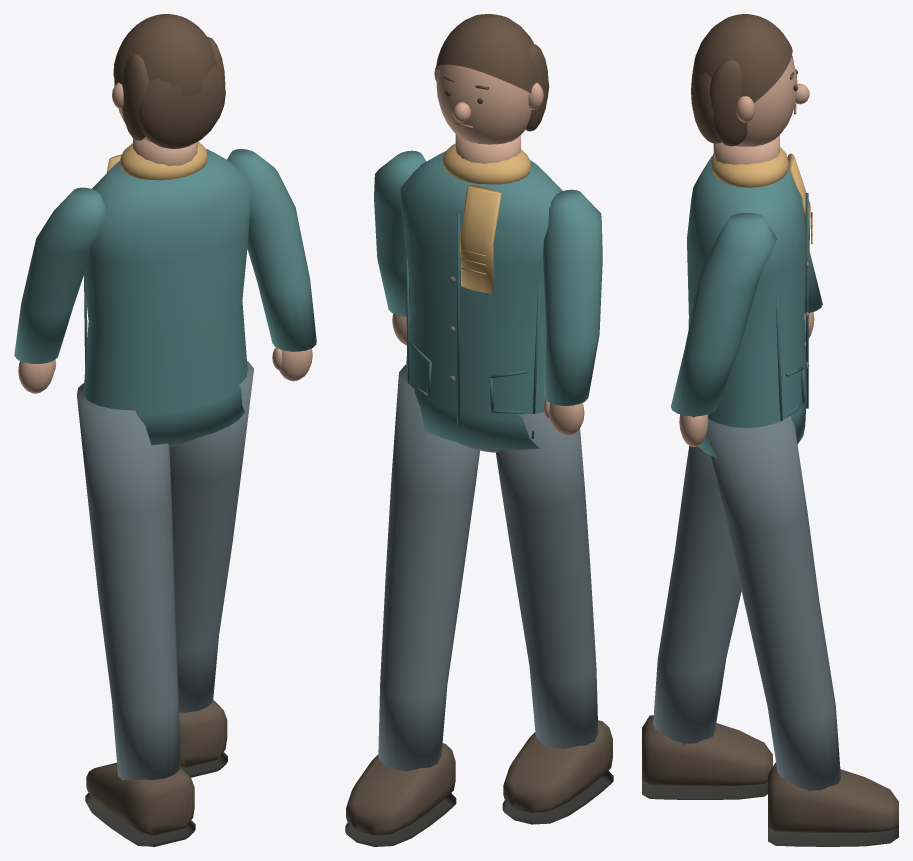
Rendered from pedestrian.glb.
3 views of the same model, side by side, from view 1: azimuth 30°, elevation 25°; view 2: azimuth 150°, elevation 25°; view 3: azimuth 270°, elevation 25° (orthographic).
Parts seen in each view (by area): view 1: coat, left_trouser, right_trouser, right_sleeve, left_sleeve, hair_cap, left_shoe, hair_rear, right_shoe, hair_sides, scarf_loop, left_sole (+3 smaller); view 2: coat, right_trouser, left_trouser, left_sleeve, left_shoe, right_shoe, face, hair_cap, right_sleeve, scarf_tail, scarf_loop, left_sole (+7 smaller); view 3: right_trouser, coat, left_trouser, right_sleeve, right_shoe, left_shoe, hair_cap, face, hair_sides, right_sole, scarf_loop, left_sole (+6 smaller).
Boxes of the visible parts, x1=… form: coat: x1=83, y1=149, x2=252, y2=445; left_trouser: x1=77, y1=383, x2=180, y2=780; right_trouser: x1=169, y1=361, x2=253, y2=712; right_sleeve: x1=227, y1=149, x2=316, y2=351; left_sleeve: x1=14, y1=187, x2=105, y2=363; hair_cap: x1=113, y1=14, x2=216, y2=95; left_shoe: x1=86, y1=762, x2=194, y2=835; hair_rear: x1=138, y1=65, x2=225, y2=148; right_shoe: x1=179, y1=700, x2=227, y2=767; hair_sides: x1=122, y1=37, x2=225, y2=140; scarf_loop: x1=120, y1=141, x2=207, y2=180; left_sole: x1=85, y1=793, x2=195, y2=846; coat: x1=400, y1=151, x2=562, y2=449; right_trouser: x1=378, y1=365, x2=479, y2=771; left_trouser: x1=496, y1=412, x2=598, y2=748; left_sleeve: x1=543, y1=189, x2=602, y2=405; left_shoe: x1=503, y1=720, x2=612, y2=812; right_shoe: x1=346, y1=743, x2=455, y2=835; face: x1=436, y1=64, x2=531, y2=144; hair_cap: x1=436, y1=14, x2=536, y2=92; right_sleeve: x1=374, y1=150, x2=426, y2=316; scarf_tail: x1=460, y1=185, x2=501, y2=293; scarf_loop: x1=442, y1=143, x2=531, y2=184; left_sole: x1=502, y1=770, x2=613, y2=824; right_trouser: x1=707, y1=416, x2=840, y2=791; coat: x1=687, y1=156, x2=806, y2=458; left_trouser: x1=653, y1=446, x2=741, y2=744; right_sleeve: x1=671, y1=212, x2=776, y2=416; right_shoe: x1=768, y1=762, x2=898, y2=833; left_shoe: x1=642, y1=715, x2=772, y2=786; hair_cap: x1=692, y1=14, x2=792, y2=102; face: x1=736, y1=57, x2=797, y2=146; hair_sides: x1=709, y1=59, x2=747, y2=146; right_sole: x1=768, y1=826, x2=898, y2=846; scarf_loop: x1=710, y1=147, x2=788, y2=187; left_sole: x1=642, y1=782, x2=767, y2=799.
Size of the model in its own units: 0.58 by 1.73 by 0.51.
